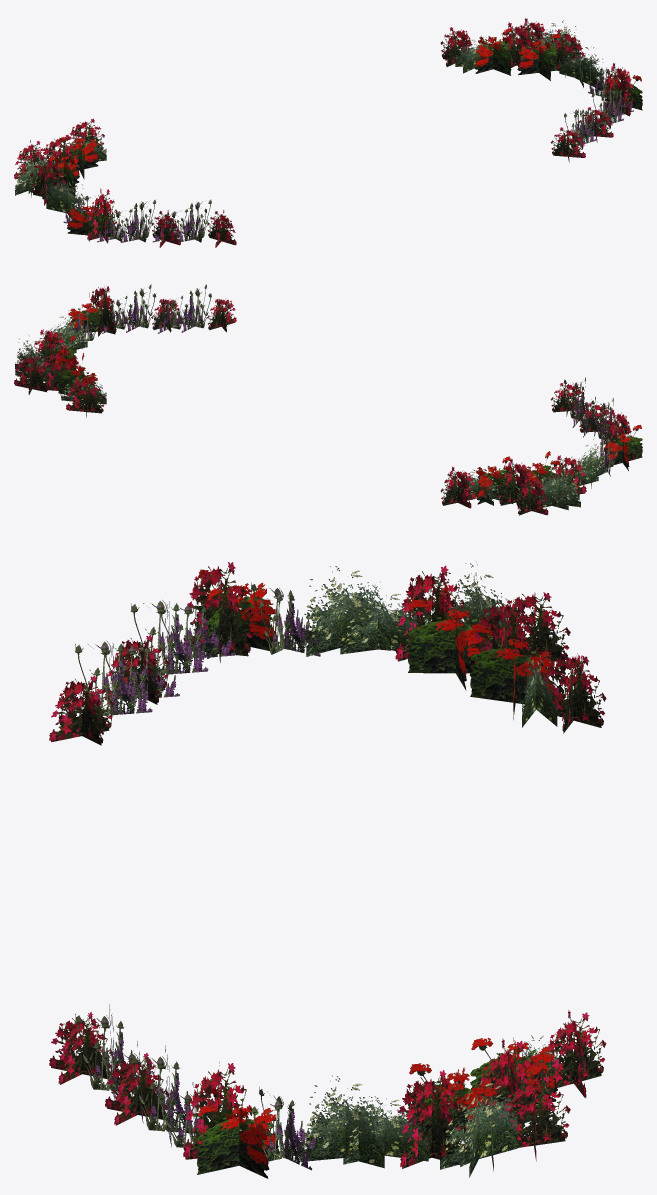
Rendered from bush04_lvs.obj.
3 renders of one model, top to bottom at view 1: azimuth 30°, elevation 25°; view 2: azimuth 150°, elevation 25°; view 3: azimuth 270°, elevation 25°, orthographic. The views are drawn at different scales.
Visible parts, largest first — view 1: bush04_lvs; view 2: bush04_lvs; view 3: bush04_lvs.
Part boxes in pixels (x1=…): bush04_lvs: x1=14, y1=18, x2=642, y2=247; bush04_lvs: x1=14, y1=284, x2=642, y2=515; bush04_lvs: x1=49, y1=562, x2=606, y2=1178.
Size of the model in its own units: 19.54 by 1.53 by 8.35.
4 materials, 4 textured.
